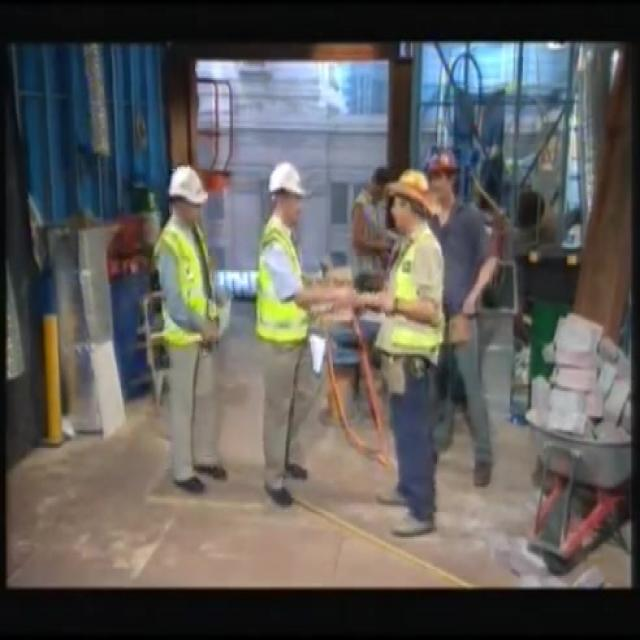Reflective-Jacket: (371, 228, 459, 388), (146, 218, 225, 356), (246, 215, 316, 354)
Safety-Helmet: (377, 162, 446, 231), (260, 153, 315, 210), (162, 158, 214, 214)
